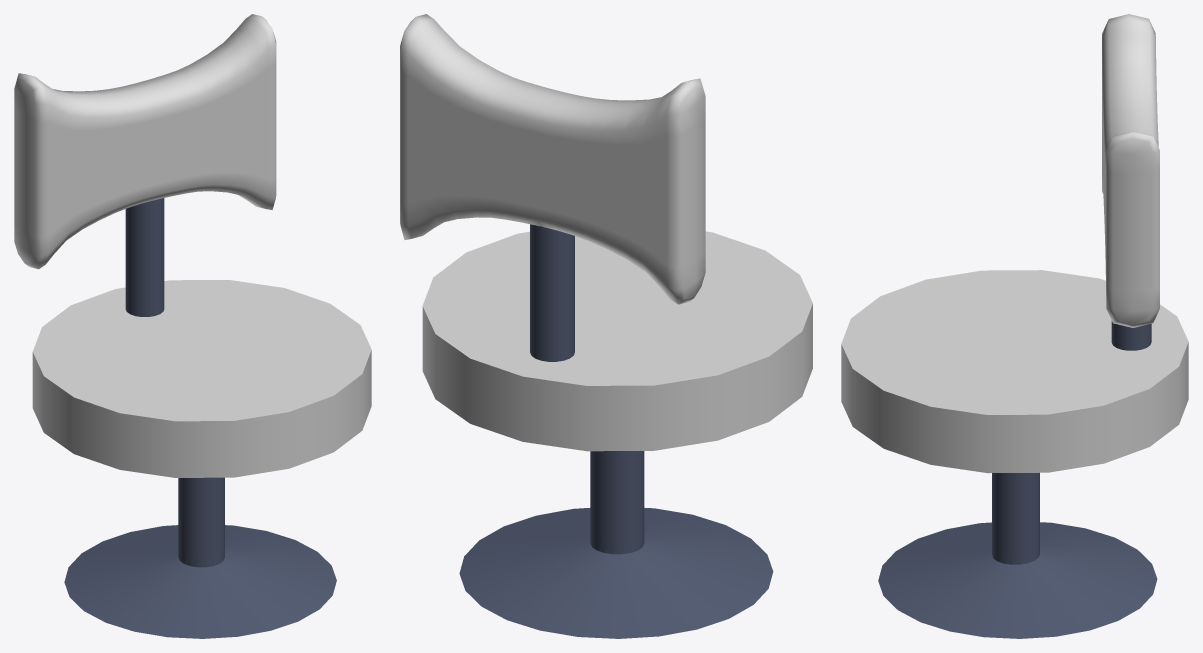
The model's file is chair.fbx.
The picture shows the model from 3 angles, left to right: view 1: azimuth 30°, elevation 25°; view 2: azimuth 150°, elevation 25°; view 3: azimuth 270°, elevation 25°; orthographic projection. The views are drawn at different scales.
Parts seen in each view (by area): view 1: Box002; view 2: Box002; view 3: Box002.
Part boxes in pixels (left/top/right/bottom): Box002: left=14, top=14, right=371, bottom=638; Box002: left=400, top=14, right=812, bottom=638; Box002: left=841, top=14, right=1188, bottom=638.
Size of the model in its own units: 17.19 by 28.05 by 17.41.
